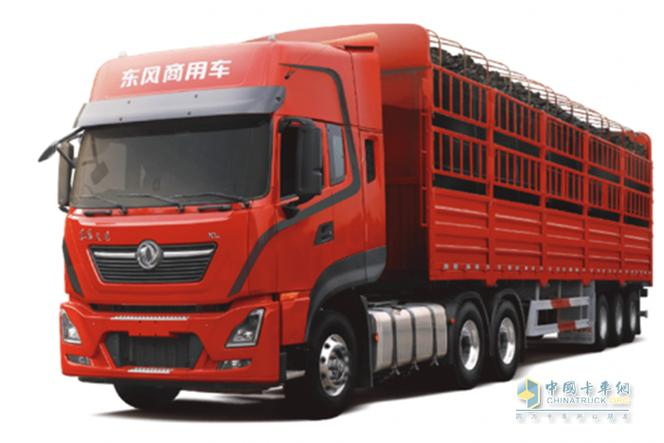卡车: (43, 9, 663, 424)
